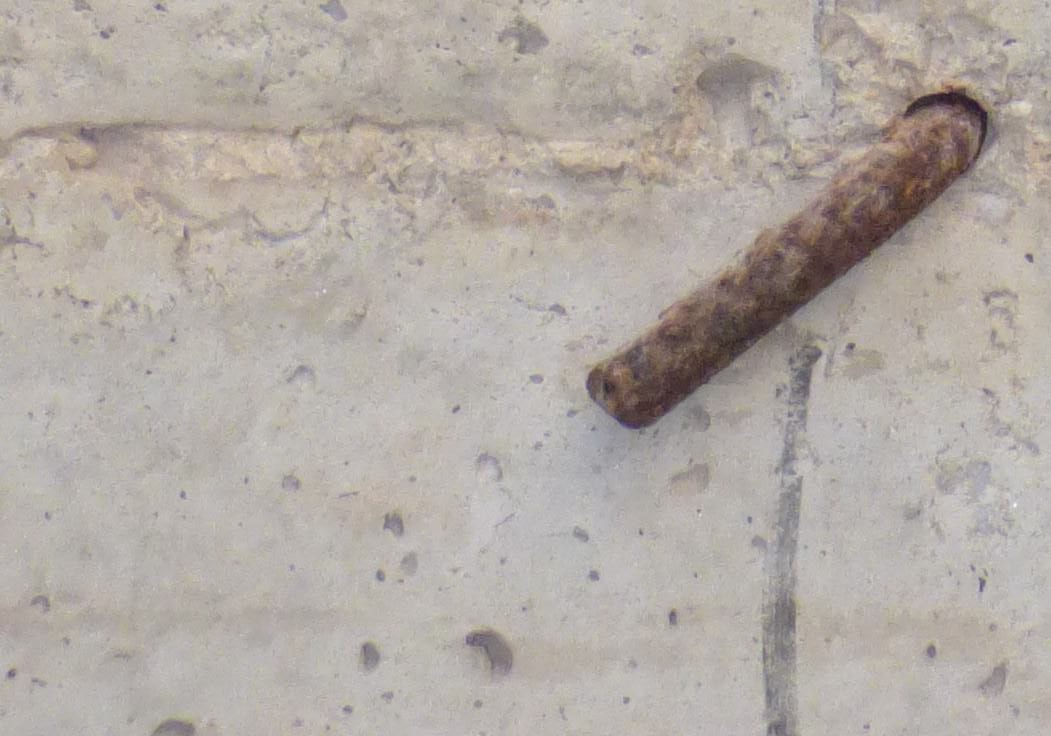Exposed reinforcement: (585, 103, 983, 430)
